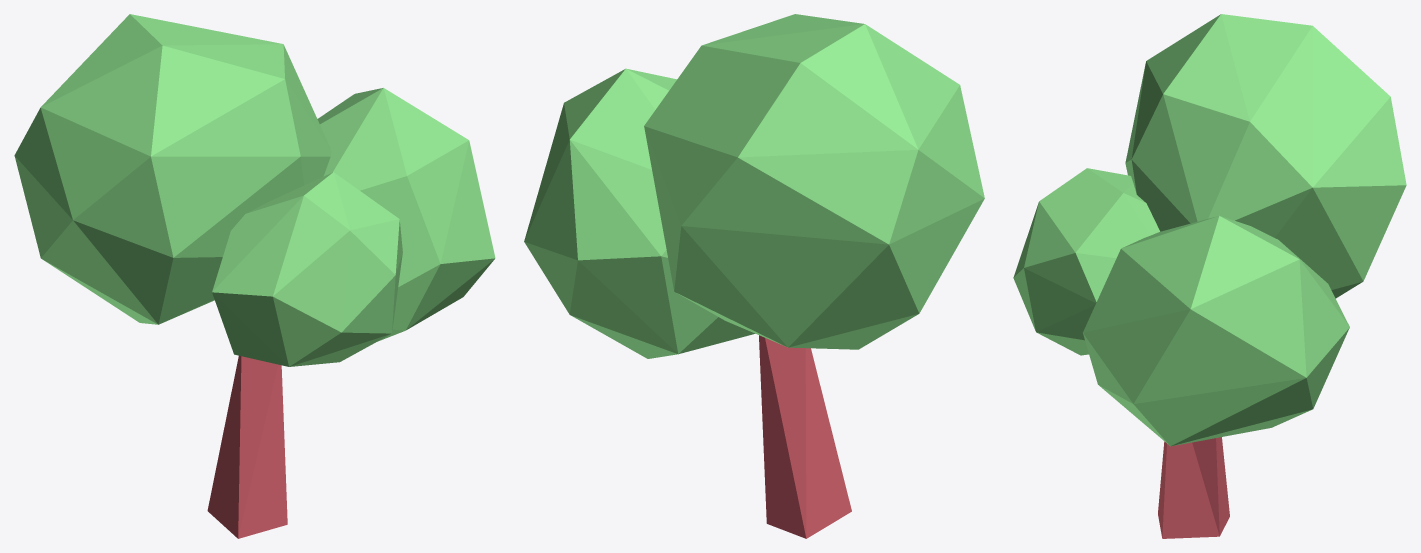
File: tree_4.fbx
3 views of the same model, side by side, from view 1: azimuth 30°, elevation 25°; view 2: azimuth 150°, elevation 25°; view 3: azimuth 270°, elevation 25° (orthographic). The views are drawn at different scales.
Parts seen in each view (by area): view 1: tree_4; view 2: tree_4; view 3: tree_4.
Part boxes in pixels (bbox=[...]): tree_4: bbox=[14, 14, 495, 538]; tree_4: bbox=[524, 14, 984, 538]; tree_4: bbox=[1013, 14, 1406, 538].
Size of the model in its own units: 800 by 940 by 700.
